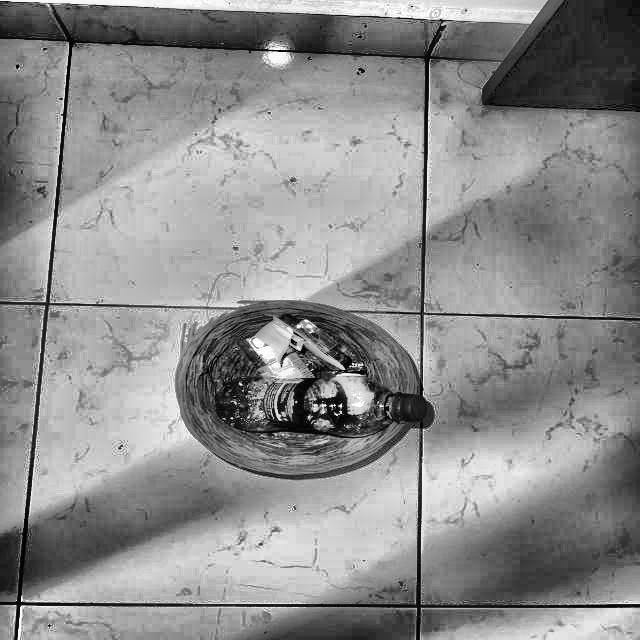Bottle-Disposed: (158, 297, 438, 483)
